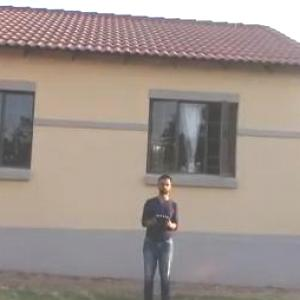follow: (133, 169, 182, 299)
